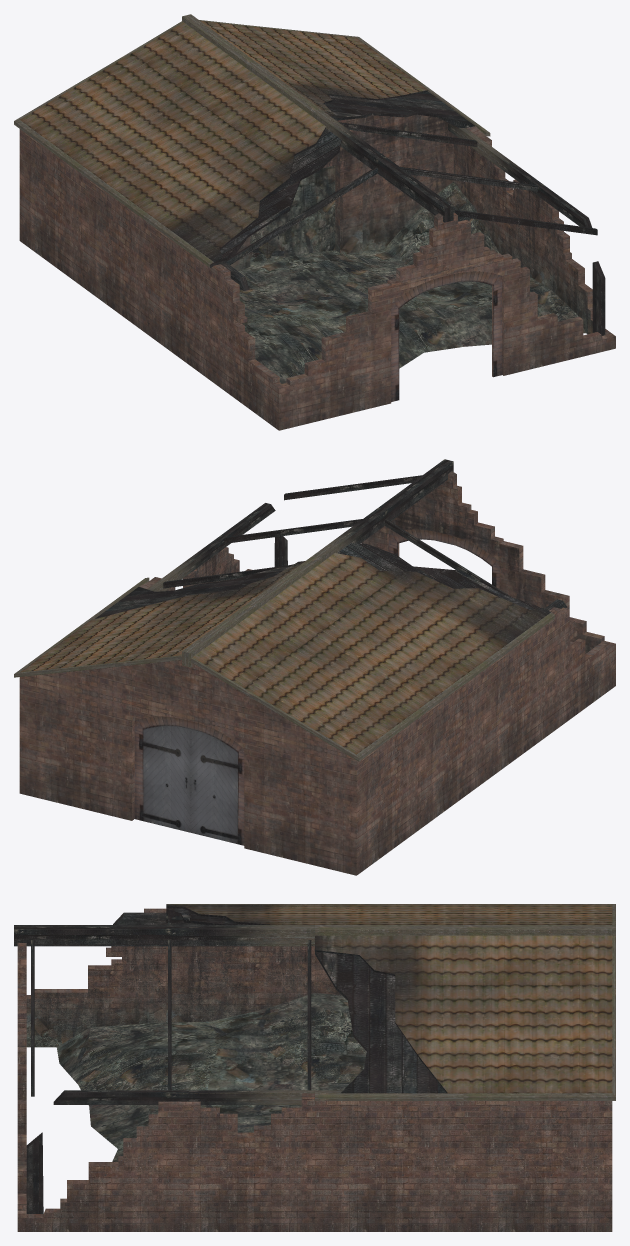
The model's file is bombed_farm_buildings_from_fps_creator_classic.glb.
3 renders of one model, top to bottom at view 1: azimuth 30°, elevation 25°; view 2: azimuth 150°, elevation 25°; view 3: azimuth 270°, elevation 25°, orthographic. The views are drawn at different scales.
Parts seen in each view (by area): view 1: bombed_farm_buildings; view 2: bombed_farm_buildings; view 3: bombed_farm_buildings.
Boxes of the visible parts, x1,y1,x2,y2 form: bombed_farm_buildings: (14, 14, 615, 430); bombed_farm_buildings: (14, 459, 615, 875); bombed_farm_buildings: (14, 904, 615, 1231).
Size of the model in its own units: 8.93 by 4.54 by 11.78.
Materials: 1 (1 with a texture image).
